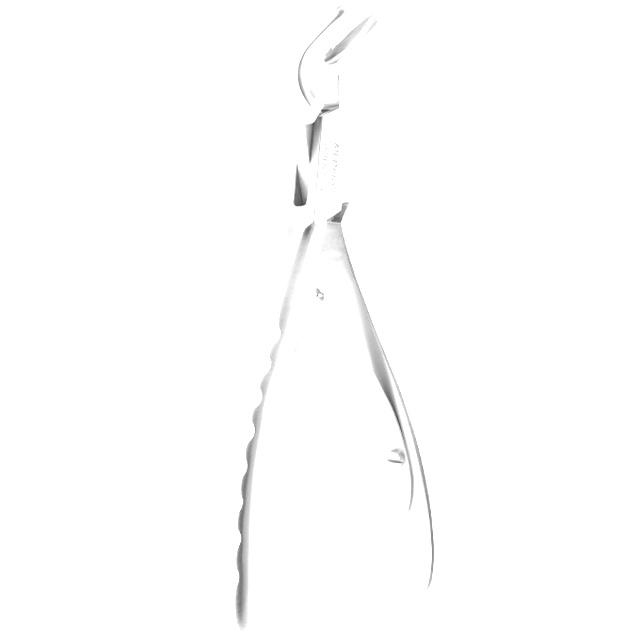gubia: (211, 5, 437, 634)
